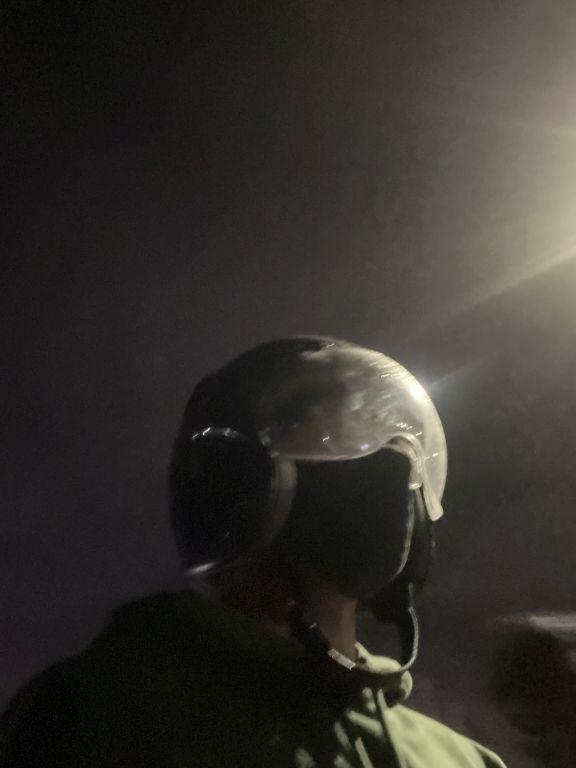helmet: (144, 320, 457, 633)
